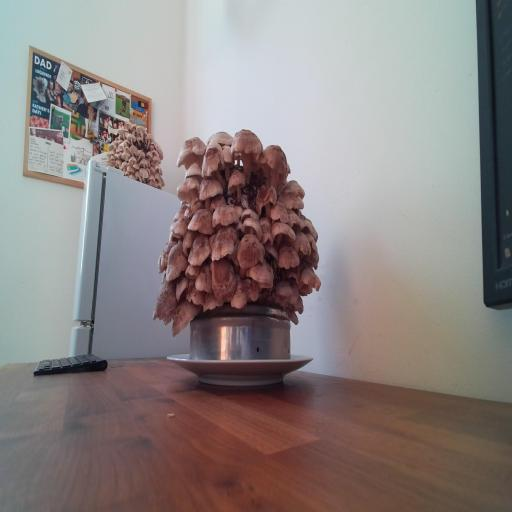Shiitake Mushroom: (220, 116, 271, 183), (248, 131, 301, 194), (158, 286, 210, 340), (186, 165, 232, 213), (176, 226, 221, 274), (149, 273, 183, 332), (200, 220, 247, 262), (221, 273, 267, 313), (157, 238, 193, 286), (168, 170, 210, 208), (171, 134, 211, 171), (286, 225, 319, 264), (152, 233, 180, 277), (294, 262, 329, 294), (201, 145, 227, 188), (243, 257, 277, 289), (236, 232, 265, 269), (279, 204, 311, 237), (210, 256, 235, 296), (224, 164, 250, 202), (218, 268, 244, 306), (237, 212, 270, 241), (296, 208, 323, 243), (270, 214, 297, 248), (165, 213, 196, 241), (183, 277, 208, 310), (176, 223, 200, 257), (168, 271, 194, 302), (278, 175, 310, 199), (188, 207, 214, 235), (277, 188, 307, 212), (198, 288, 227, 312), (256, 184, 277, 217), (302, 234, 323, 267), (211, 203, 240, 226), (204, 190, 231, 214), (221, 144, 238, 181), (260, 237, 284, 263), (278, 242, 300, 270), (183, 195, 209, 218), (269, 199, 291, 226), (171, 199, 191, 227), (195, 262, 213, 292), (284, 282, 303, 309), (281, 306, 304, 326), (290, 294, 309, 318), (207, 129, 234, 145), (257, 211, 274, 236), (183, 160, 203, 177), (296, 282, 316, 299), (232, 218, 247, 240), (228, 239, 240, 266), (275, 280, 294, 297), (184, 262, 201, 281), (285, 263, 301, 283), (239, 206, 260, 221), (233, 200, 246, 219), (261, 230, 274, 244)
